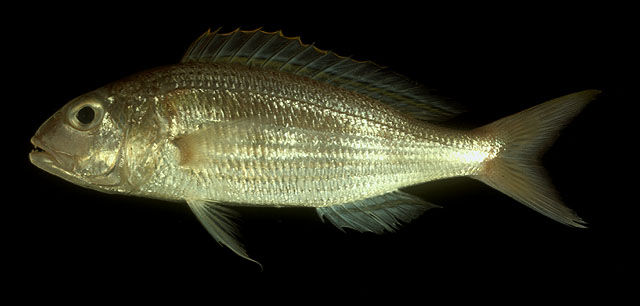fish: (28, 26, 597, 268)
